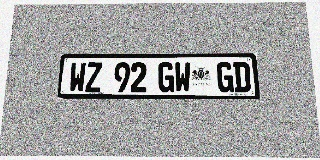2: (130, 62, 147, 92)
9: (114, 62, 130, 92)
D: (233, 62, 251, 92)
G: (216, 62, 234, 92), (158, 62, 174, 92)
W: (69, 62, 86, 92), (174, 62, 191, 92)
Z: (85, 62, 102, 92)
